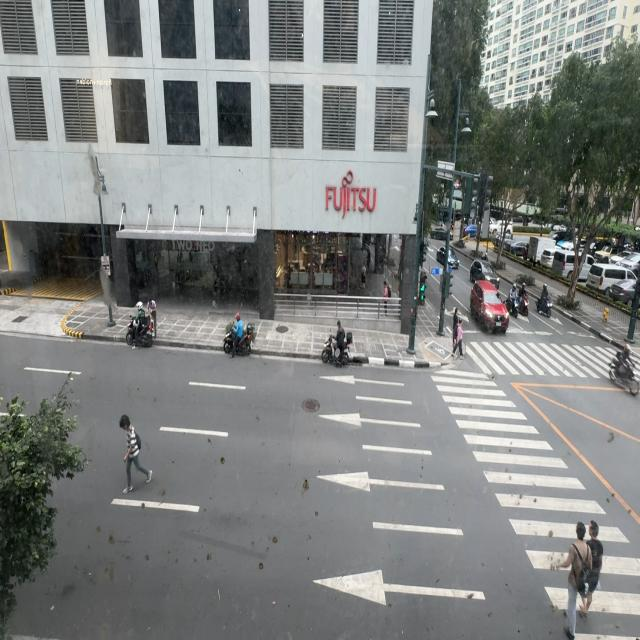crossing: (553, 511, 589, 638), (585, 518, 603, 610)
jaywalking: (117, 414, 153, 494)
pedestrain: (382, 281, 390, 316)
waiting: (456, 318, 463, 363), (452, 308, 460, 340)
